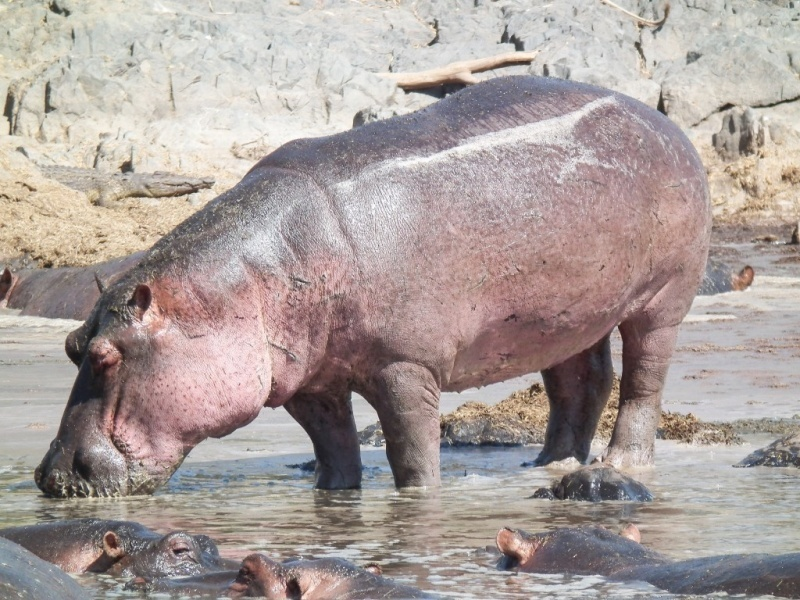hipopotamo: (34, 74, 716, 507), (473, 504, 800, 595), (1, 500, 242, 588), (202, 532, 449, 600)
